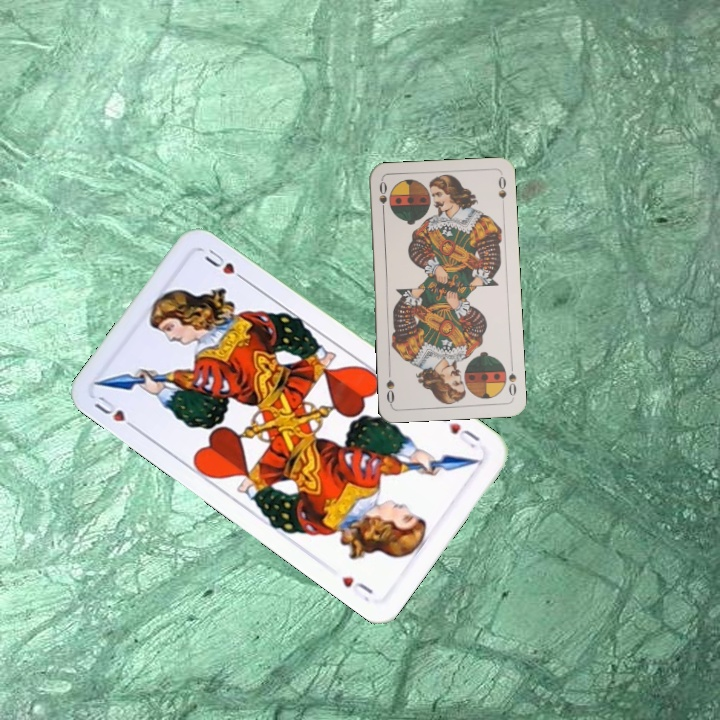HU: (90, 390, 142, 434), (444, 418, 483, 451)
SO: (375, 177, 390, 218), (504, 360, 519, 400)
